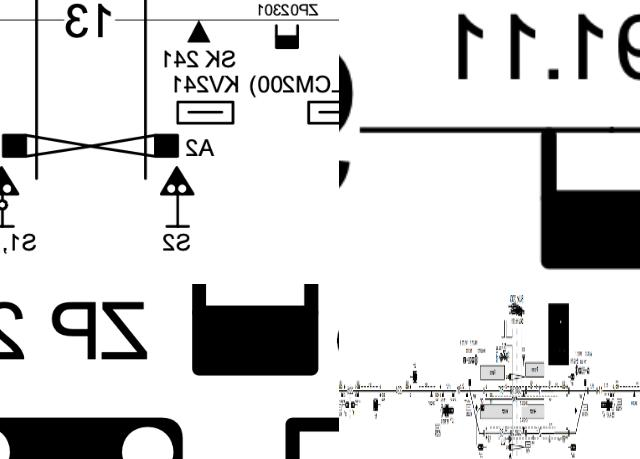mainsignal: (567, 443, 577, 453), (478, 442, 487, 451)
radzaehler: (515, 107, 640, 284), (163, 284, 339, 397), (269, 16, 305, 56), (465, 389, 468, 399), (341, 390, 344, 398), (356, 390, 359, 398), (441, 390, 444, 398), (452, 389, 455, 396), (610, 390, 612, 398)
trackjoint: (509, 387, 512, 396), (482, 387, 485, 396), (509, 429, 512, 437), (595, 388, 598, 395), (568, 429, 570, 437), (525, 430, 527, 438), (483, 429, 485, 437), (568, 388, 570, 395), (525, 387, 527, 393), (587, 389, 589, 394)
tracknumber: (56, 0, 122, 42), (394, 383, 404, 397), (346, 384, 354, 396), (499, 385, 504, 395), (499, 428, 504, 438), (598, 384, 602, 396), (456, 384, 460, 396), (538, 384, 542, 396), (539, 426, 542, 441)
weiche: (583, 378, 587, 391), (468, 378, 471, 392)
